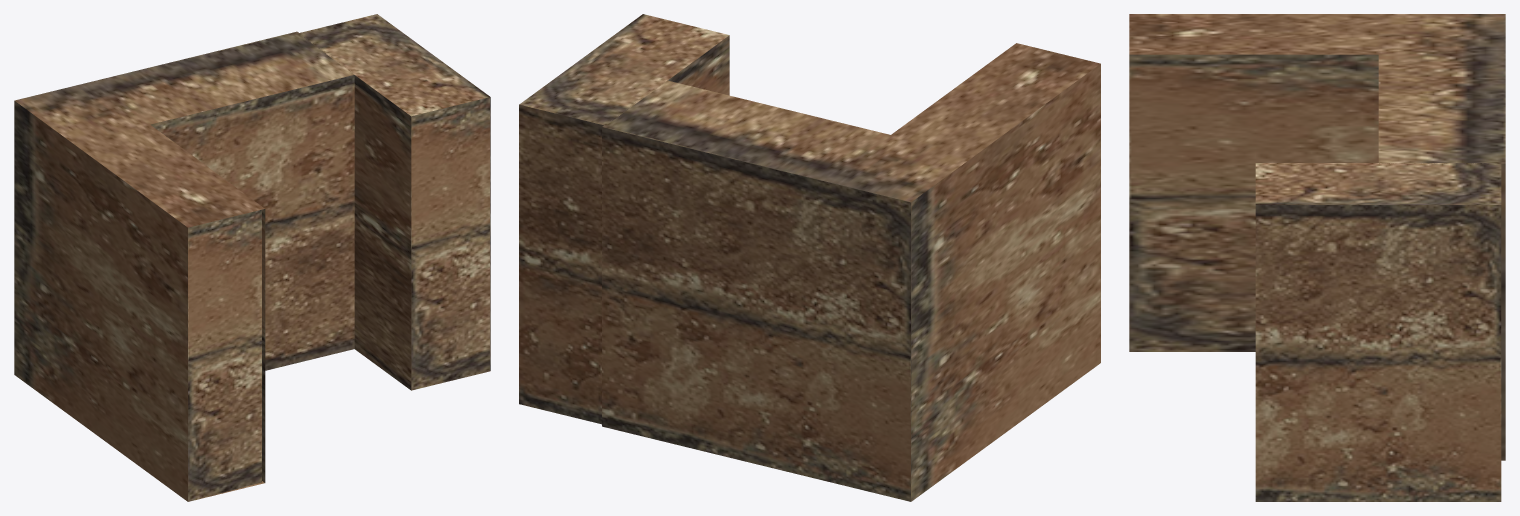
The model's file is Ladrillo7.fbx.
3 renders of one model, left to right at view 1: azimuth 30°, elevation 25°; view 2: azimuth 150°, elevation 25°; view 3: azimuth 270°, elevation 25°, orthographic. The views are drawn at different scales.
Visible parts, largest first — view 1: Ladrillo.002; view 2: Ladrillo.002; view 3: Ladrillo.002.
Part boxes in pixels (bbox=[...]): Ladrillo.002: bbox=[14, 14, 490, 501]; Ladrillo.002: bbox=[519, 14, 1100, 501]; Ladrillo.002: bbox=[1129, 14, 1505, 501].
Size of the model in its own units: 116 by 84.77 by 96.99.
